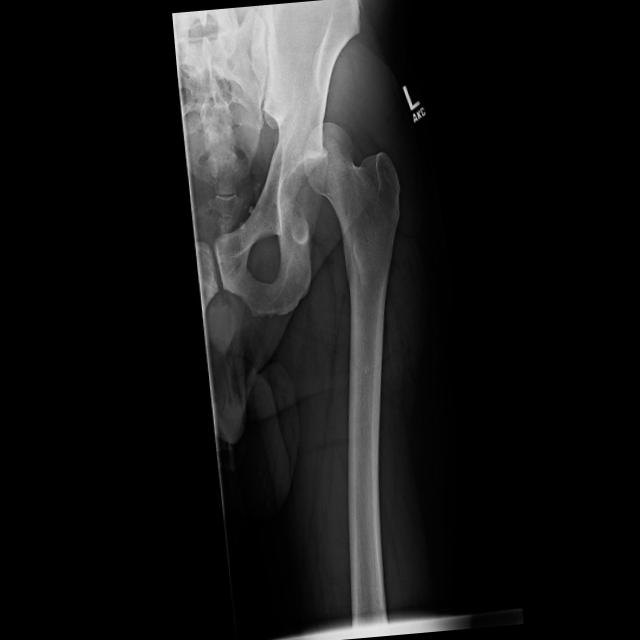left-dislocation: (303, 123, 399, 384)
